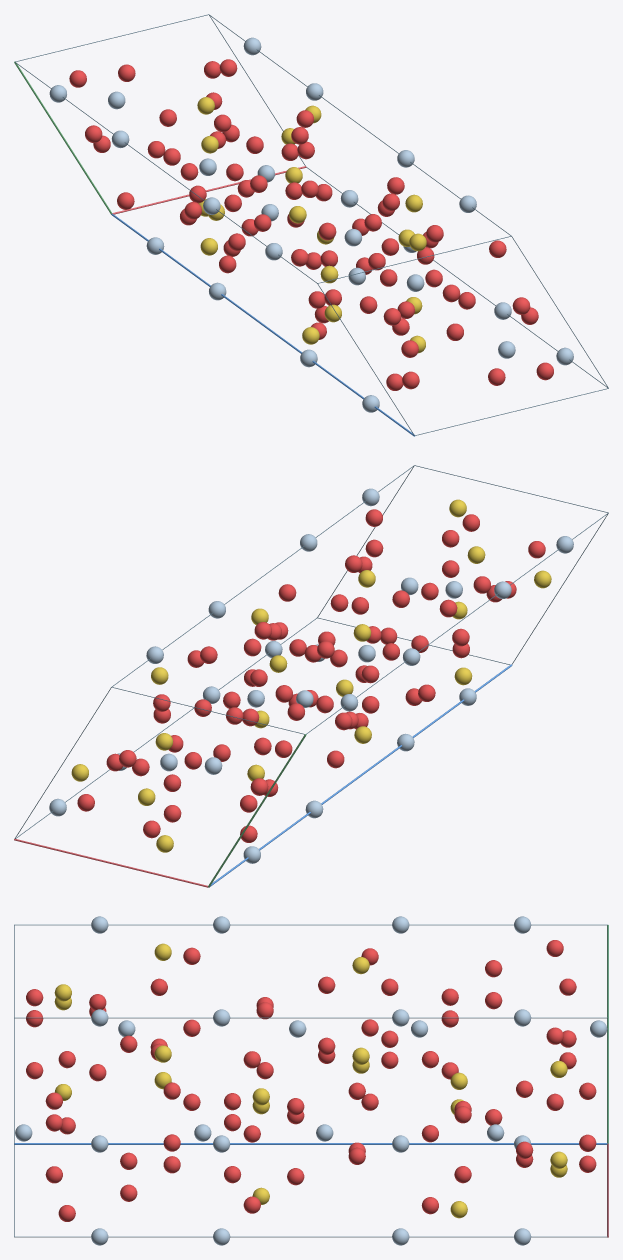
Rendered from chat-chromium-sulfate.glb.
The picture shows the model from 3 angles, top to bottom: view 1: azimuth 30°, elevation 25°; view 2: azimuth 150°, elevation 25°; view 3: azimuth 270°, elevation 25°; orthographic projection. The views are drawn at different scales.
Parts seen in each view (by area): view 1: Ô mạng và các trục a, b, c; view 2: Ô mạng và các trục a, b, c; view 3: Ô mạng và các trục a, b, c.
Part boxes in pixels (x1=…): Ô mạng và các trục a, b, c: x1=14, y1=14, x2=608, y2=436; Ô mạng và các trục a, b, c: x1=14, y1=465, x2=608, y2=887; Ô mạng và các trục a, b, c: x1=14, y1=924, x2=608, y2=1237.
Size of the model in its own units: 12.83 by 7.68 by 21.99.
